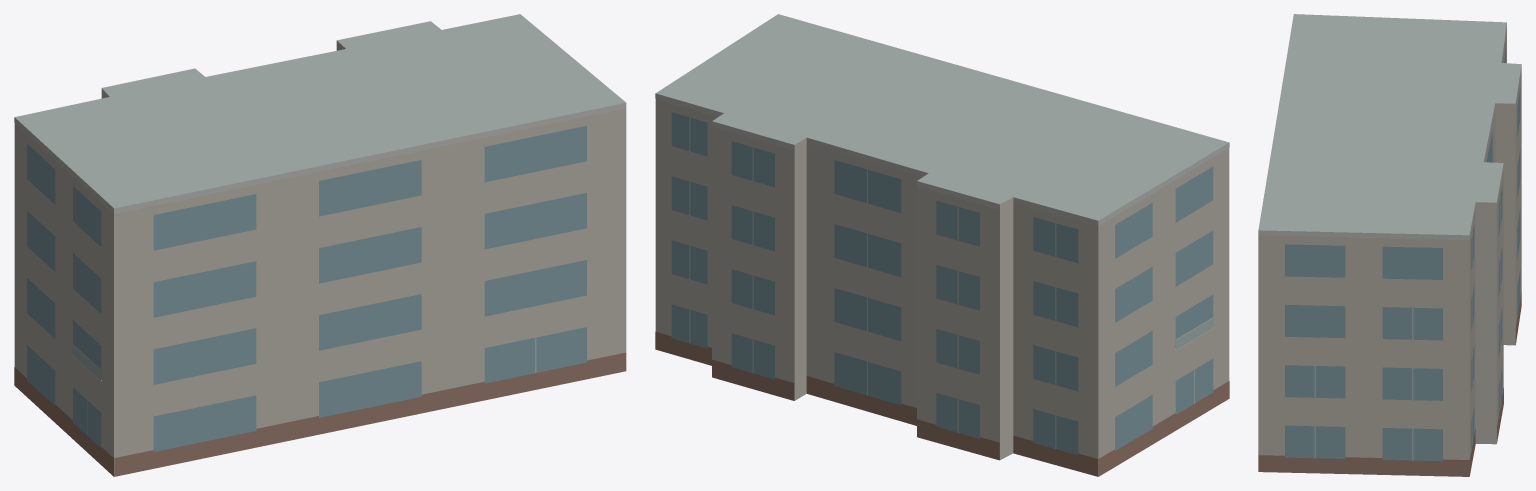
The model's file is survey-upis-32933081.glb.
3 renders of one model, left to right at view 1: azimuth 30°, elevation 25°; view 2: azimuth 150°, elevation 25°; view 3: azimuth 270°, elevation 25°, orthographic. The views are drawn at different scales.
Parts seen in each view (by area): view 1: survey-upis-32933081.tmp; view 2: survey-upis-32933081.tmp; view 3: survey-upis-32933081.tmp.
Part boxes in pixels (<box>): survey-upis-32933081.tmp: <box>14,14,626,476</box>; survey-upis-32933081.tmp: <box>655,14,1229,476</box>; survey-upis-32933081.tmp: <box>1258,14,1521,476</box>.
Size of the model in its own units: 22.99 by 11.7 by 11.57.
